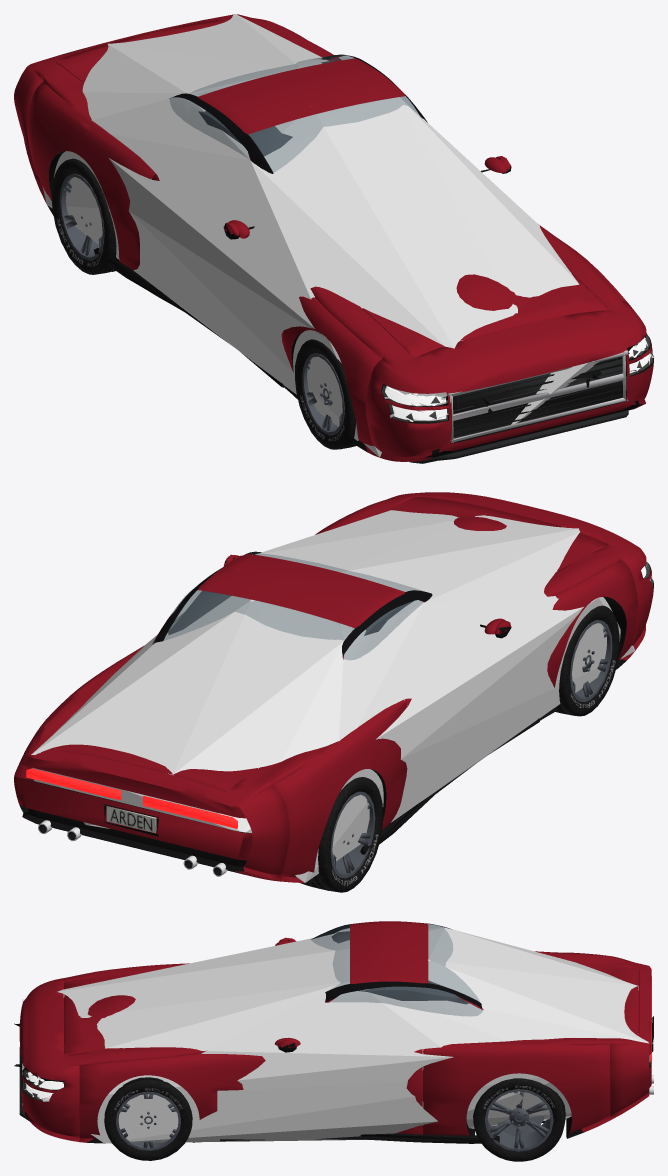
File: arden_bruiser_lod1.glb
3 renders of one model, top to bottom at view 1: azimuth 30°, elevation 25°; view 2: azimuth 150°, elevation 25°; view 3: azimuth 270°, elevation 25°, orthographic. The views are drawn at different scales.
Parts seen in each view (by area): view 1: col_body, body, trim, glass, wheel_RR, wheel_FR, lights_front, interior; view 2: col_body, body, glass, wheel_RR, wheel_FR, lights_rear, interior, trim, plate_rear, underbody, exhaust; view 3: col_body, body, glass, wheel_RL, wheel_FL, trim, interior, lights_front.
Part boxes in pixels (x1=…): col_body: x1=42, y1=14, x2=653, y2=457; body: x1=14, y1=14, x2=653, y2=461; trim: x1=94, y1=156, x2=628, y2=463; glass: x1=169, y1=55, x2=419, y2=172; wheel_RR: x1=51, y1=158, x2=119, y2=274; wheel_FR: x1=295, y1=339, x2=357, y2=449; lights_front: x1=382, y1=332, x2=652, y2=421; interior: x1=198, y1=60, x2=333, y2=156; col_body: x1=31, y1=510, x2=634, y2=882; body: x1=14, y1=492, x2=653, y2=882; glass: x1=151, y1=552, x2=425, y2=659; wheel_RR: x1=300, y1=777, x2=383, y2=892; wheel_FR: x1=555, y1=605, x2=619, y2=716; lights_rear: x1=26, y1=768, x2=237, y2=828; interior: x1=168, y1=590, x2=413, y2=635; trim: x1=223, y1=554, x2=539, y2=854; plate_rear: x1=103, y1=804, x2=158, y2=836; underbody: x1=33, y1=596, x2=626, y2=874; exhaust: x1=38, y1=820, x2=227, y2=876; col_body: x1=41, y1=927, x2=650, y2=1143; body: x1=14, y1=921, x2=651, y2=1143; glass: x1=311, y1=924, x2=482, y2=1016; wheel_RL: x1=473, y1=1078, x2=565, y2=1161; wheel_FL: x1=104, y1=1077, x2=192, y2=1160; trim: x1=19, y1=937, x2=499, y2=1143; interior: x1=331, y1=931, x2=468, y2=1004; lights_front: x1=23, y1=1070, x2=63, y2=1101.
Size of the model in its own units: 1.92 by 1.38 by 4.92.
15 materials, 3 textured.
